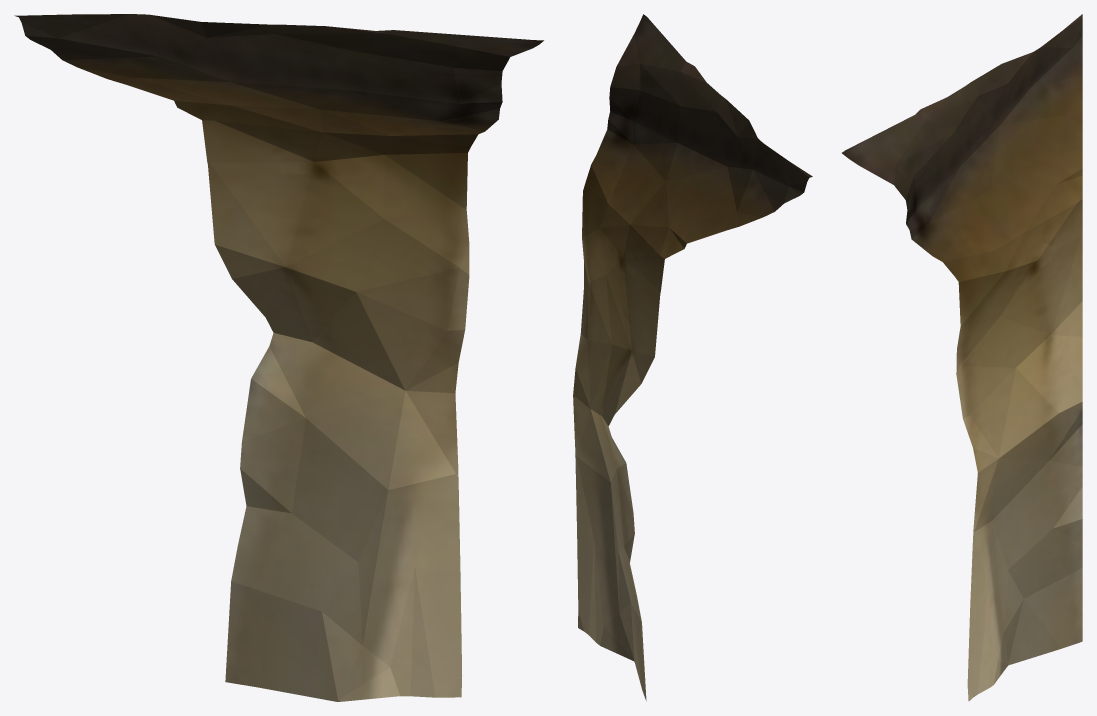
The picture shows the model from 3 angles, left to right: view 1: azimuth 30°, elevation 25°; view 2: azimuth 150°, elevation 25°; view 3: azimuth 270°, elevation 25°; orthographic projection. The views are drawn at different scales.
Bounding box in the file's own units: 0.455 × 0.8374 × 0.3333.
Materials: 1 (1 with a texture image).
